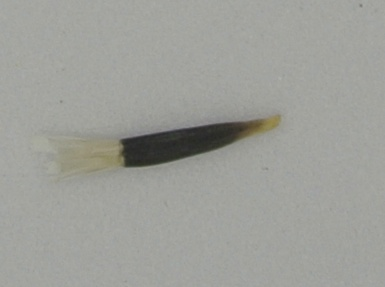เมล็ดดีติดกัน: (32, 112, 283, 186)
